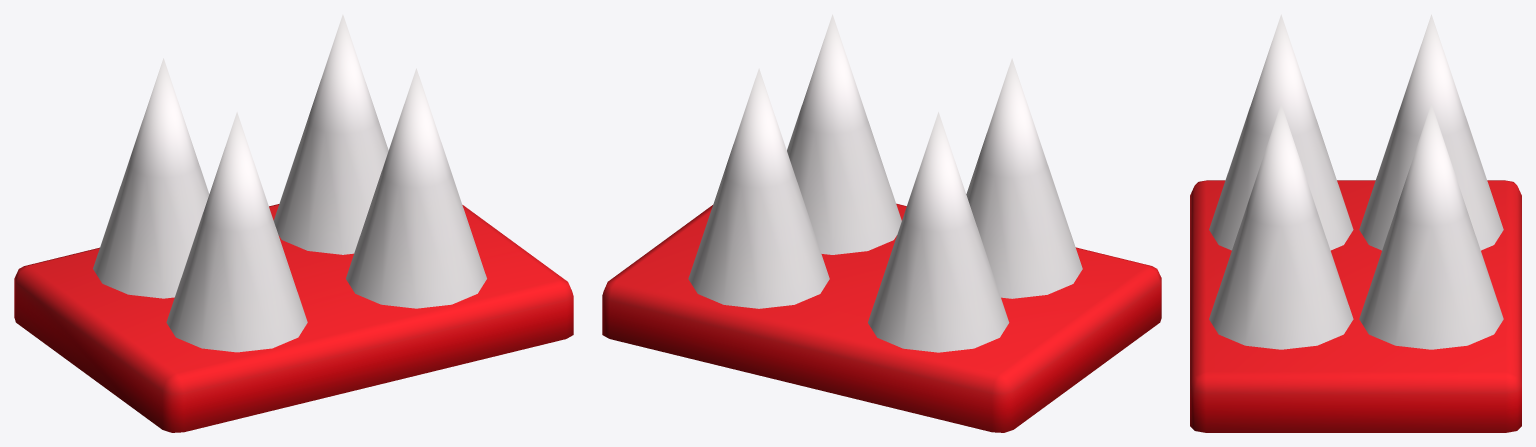
The model's file is obs_02_3.fbx.
The picture shows the model from 3 angles, left to right: view 1: azimuth 30°, elevation 25°; view 2: azimuth 150°, elevation 25°; view 3: azimuth 270°, elevation 25°; orthographic projection. The views are drawn at different scales.
Parts seen in each view (by area): view 1: obs_2_3; view 2: obs_2_3; view 3: obs_2_3.
Boxes of the visible parts, box(x1,y1,x2,y2) form: obs_2_3: box(14, 14, 573, 432); obs_2_3: box(602, 14, 1161, 432); obs_2_3: box(1190, 14, 1521, 432).
Size of the model in its own units: 93.64 by 57.74 by 64.28.
